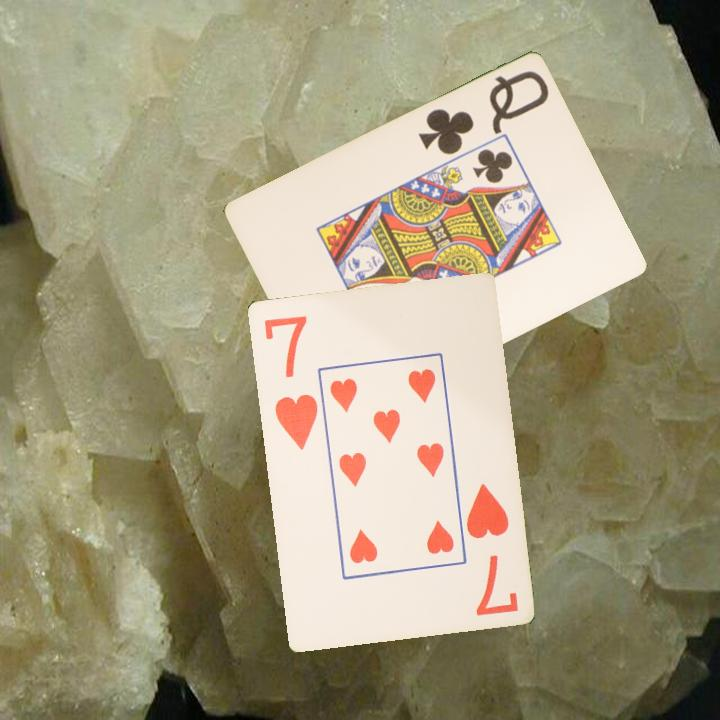7h: (260, 311, 321, 453), (462, 479, 521, 618)
Qc: (414, 67, 552, 159)
